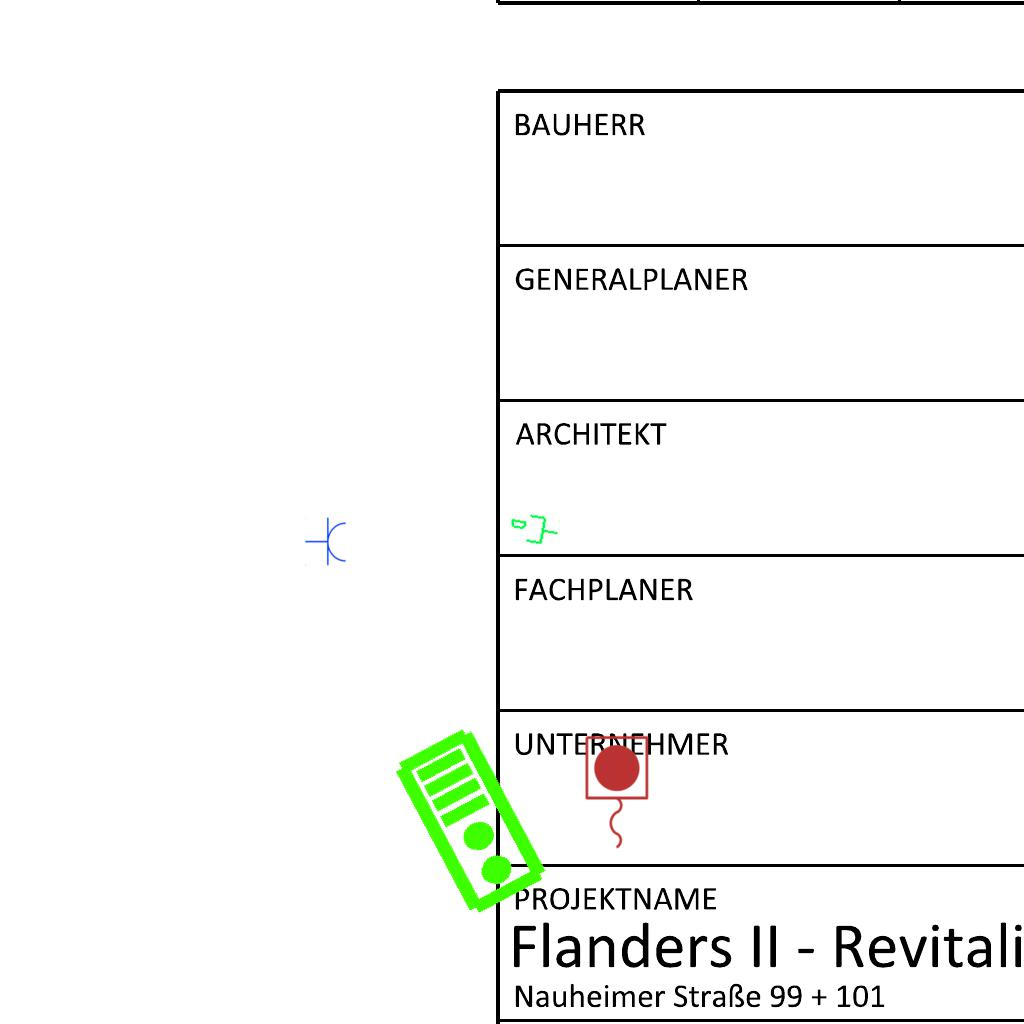Datenanschluss_einfach: (506, 508, 562, 552)
Gegensprechanlage_mit_Video: (389, 721, 556, 921)
Schukosteckdose_einfach: (305, 517, 348, 567)
Zugtaster: (580, 732, 652, 854)
